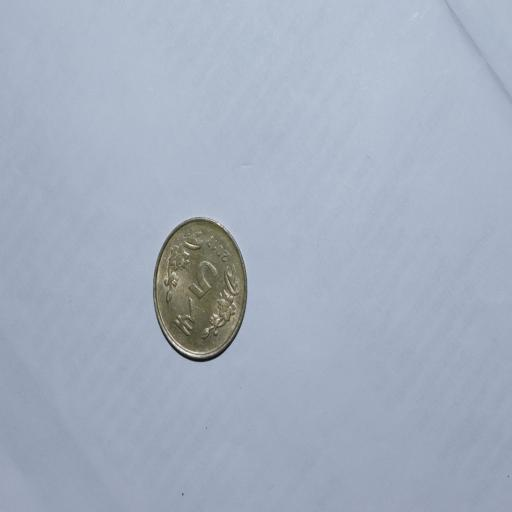rupee5: (152, 217, 248, 362)
